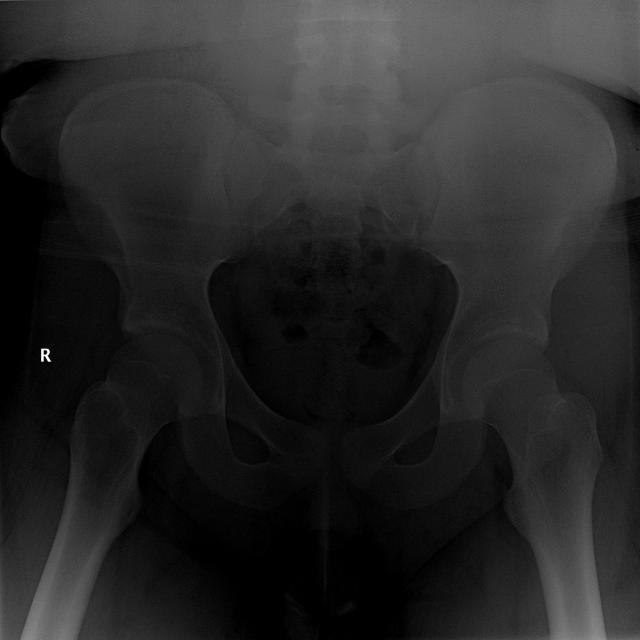normal-left: (462, 340, 606, 640)
normal-right: (20, 333, 203, 640)
